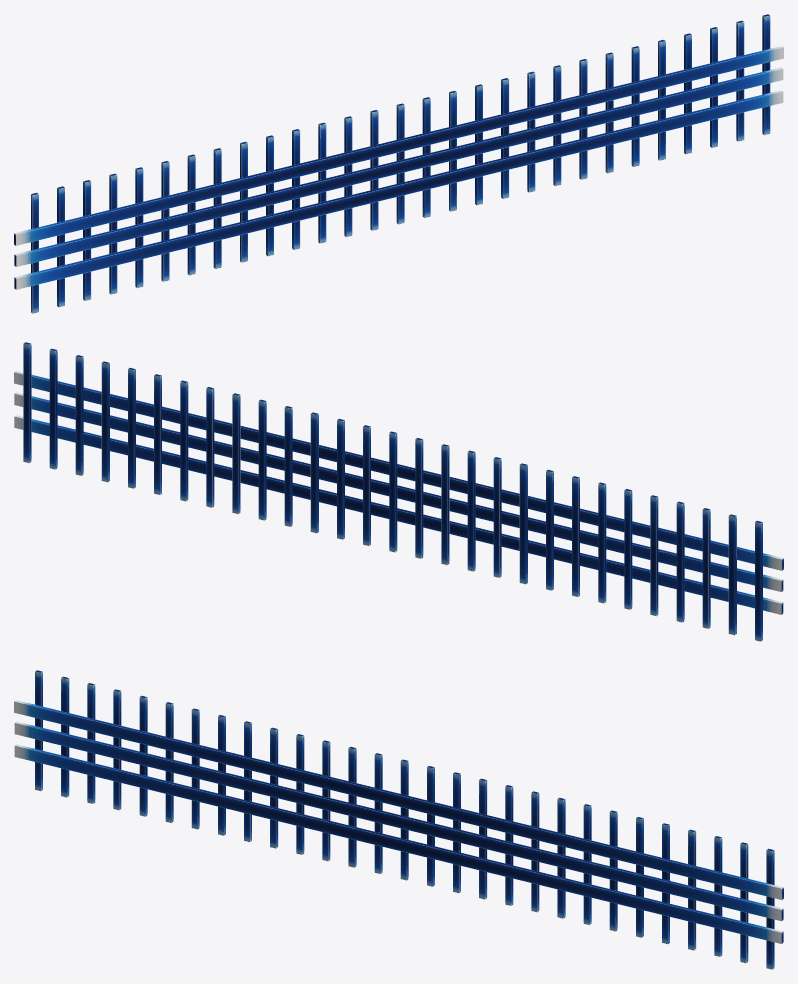
The model's file is syj_c.gltf.
The picture shows the model from 3 angles, top to bottom: view 1: azimuth 30°, elevation 25°; view 2: azimuth 150°, elevation 25°; view 3: azimuth 330°, elevation 25°; orthographic projection.
Visible parts, largest first — view 1: c; view 2: c; view 3: c.
Part boxes in pixels (bbox=[...]): c: bbox=[14, 14, 783, 313]; c: bbox=[14, 342, 783, 641]; c: bbox=[14, 670, 783, 969].
Bounding box in the file's own units: 1.27 × 0.1866 × 0.0114.
Materials: 1 (1 with a texture image).
